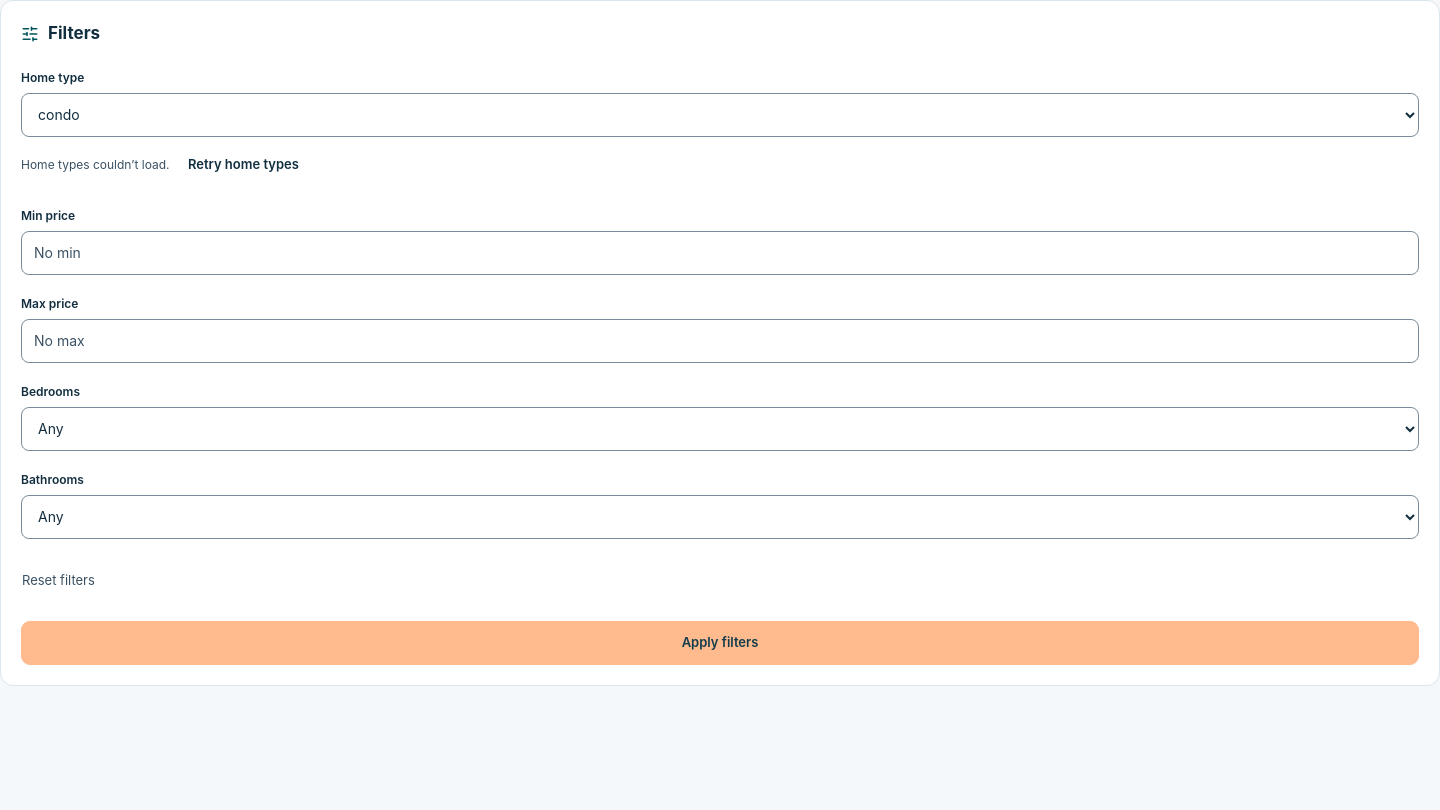
a failed home-type lookup preserves the applied type and can be retried
The image size is (1440, 810).
Click the button "Retry home types". click: coordinates (243, 164)
box: [173,142,314,186]
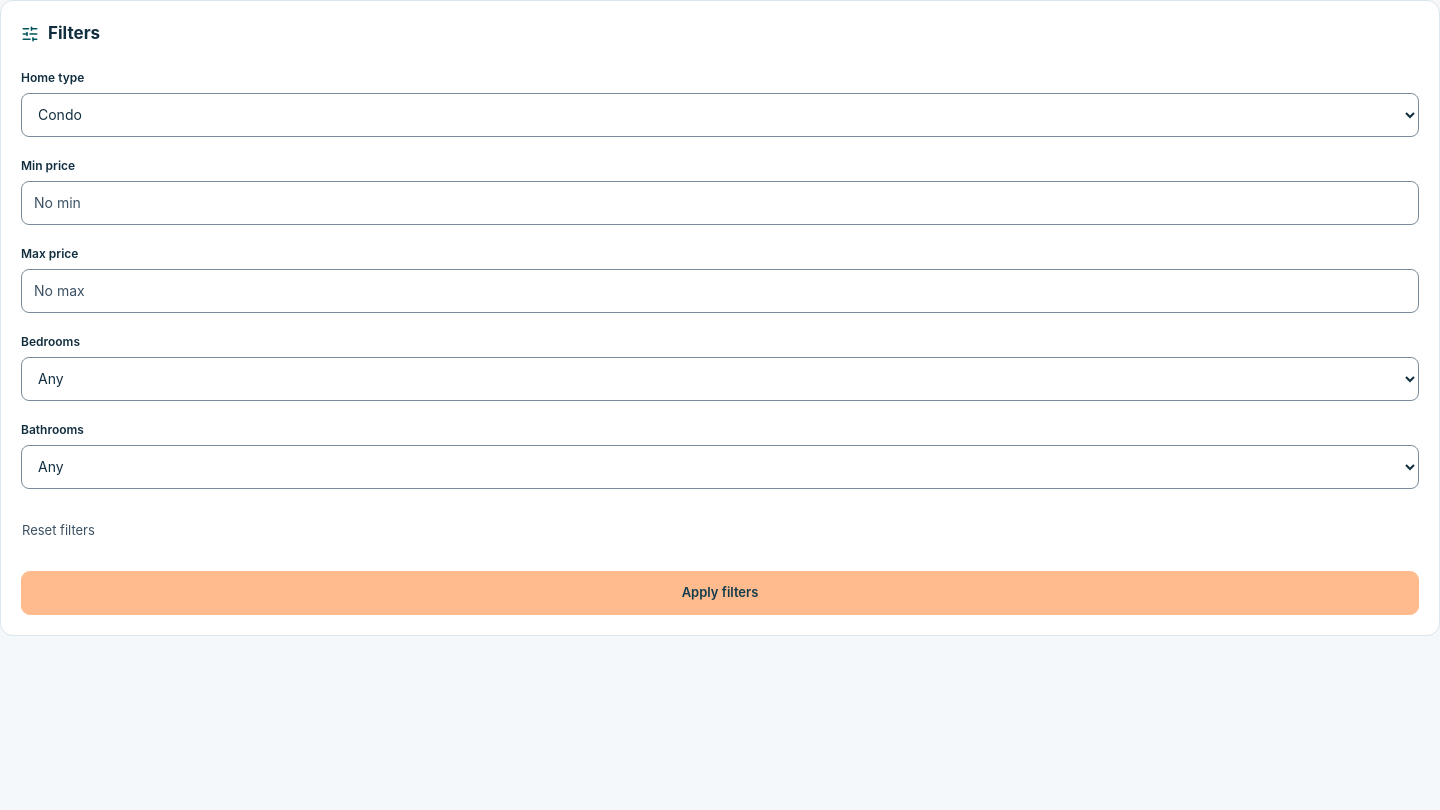
Expected: the dropdown labelled "Home type" shows "Condo", [21,92,1419,136]
